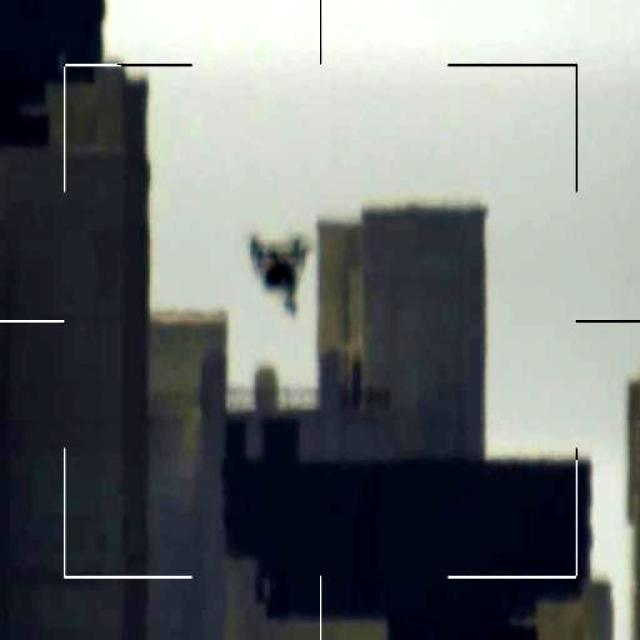bird: (246, 229, 310, 319)
